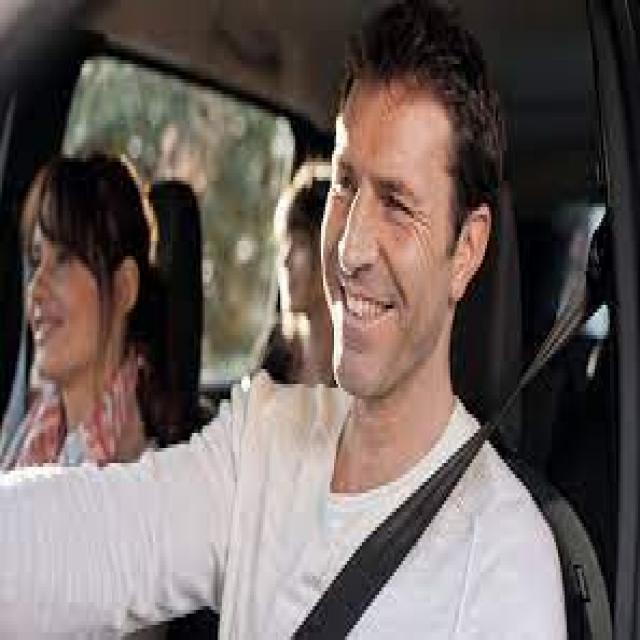seatbelt: (288, 233, 616, 640)
